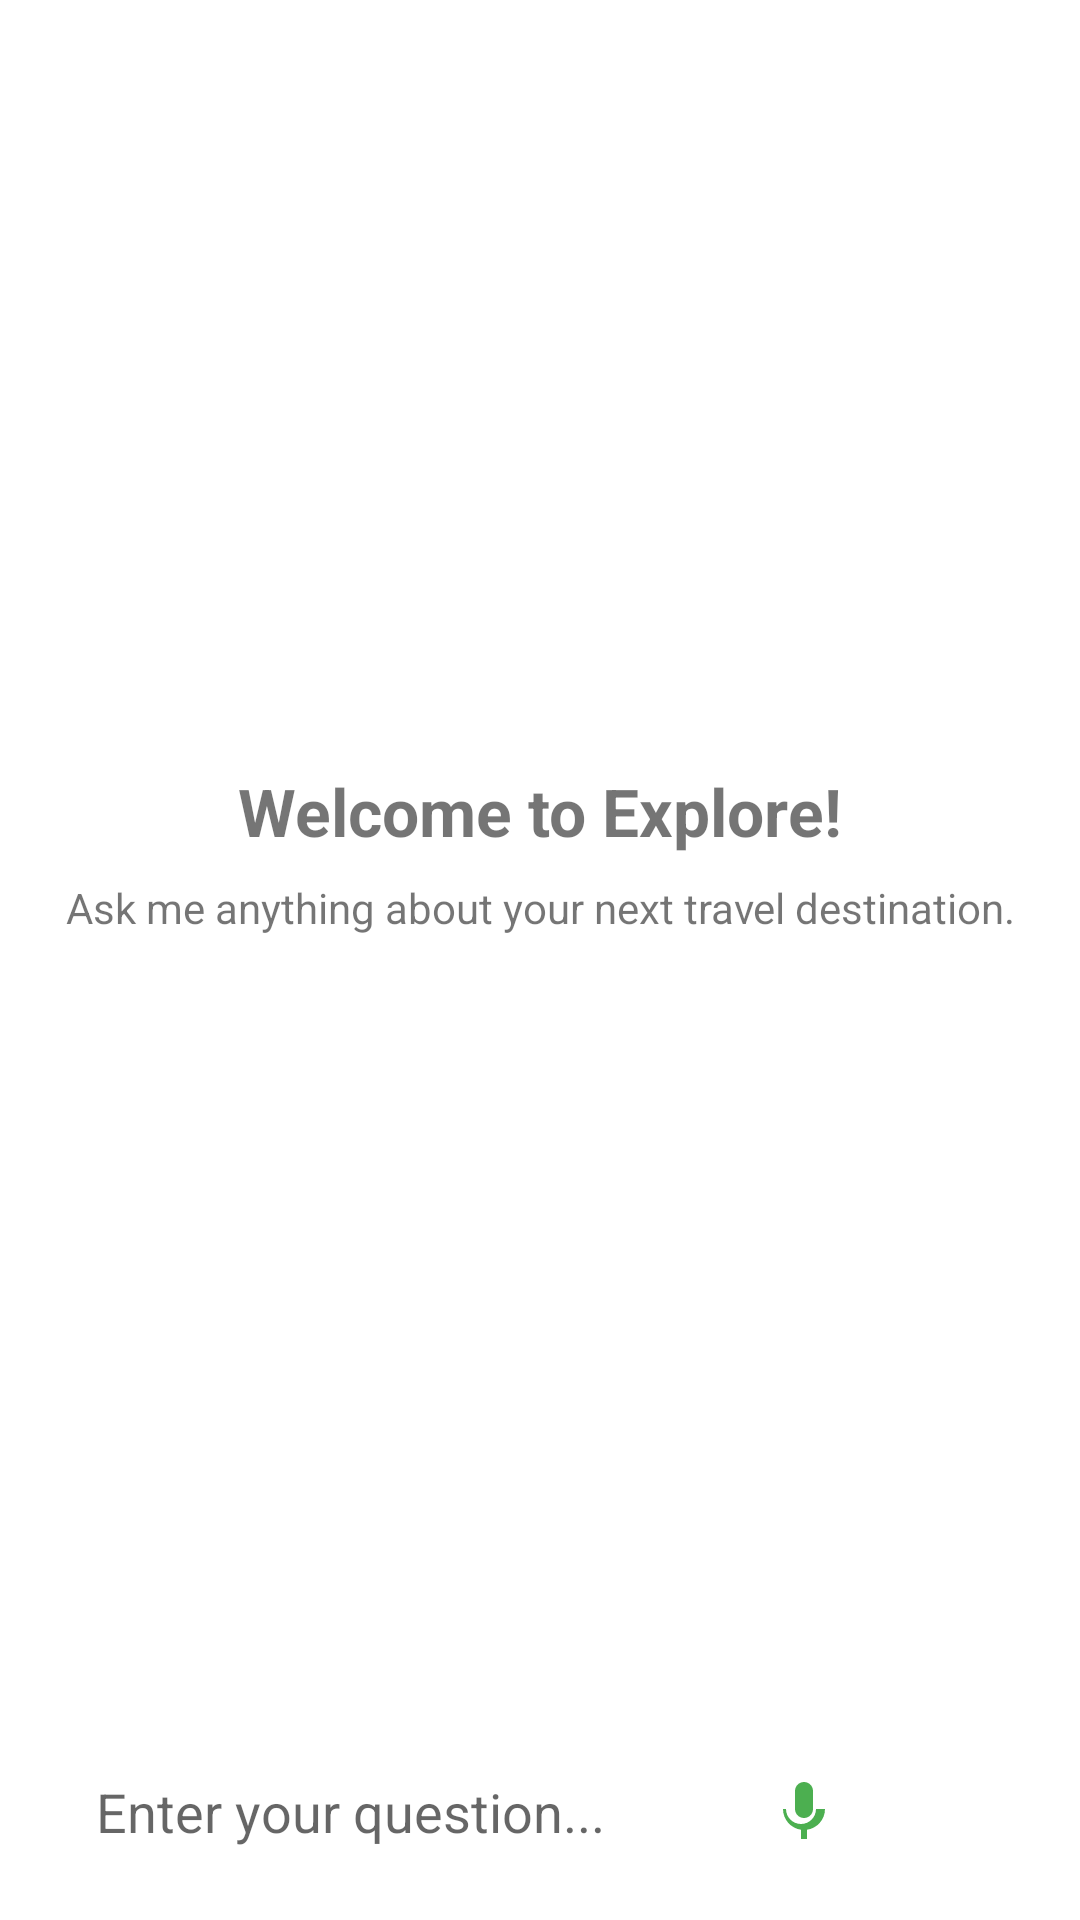

Icon bounding boxes for this 1080 x 1920 phone screenshot, format box(x1, y1, x2, y2):
Voice Input: box(783, 1782, 825, 1839)
